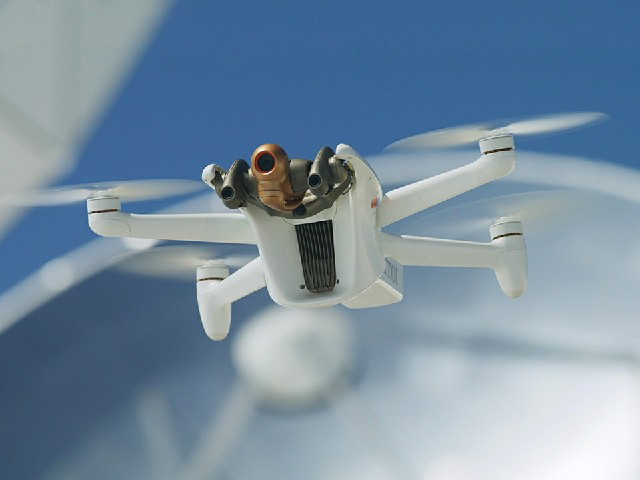maybay_khongnguoilai: (29, 105, 557, 314)
